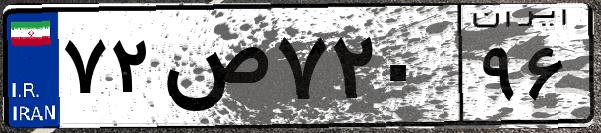0: (385, 28, 445, 110)
2: (330, 28, 385, 110), (110, 28, 158, 98)
6: (525, 38, 570, 115)
7: (270, 28, 330, 110), (57, 26, 110, 100)
9: (475, 38, 525, 113)
ص: (158, 20, 270, 120)
